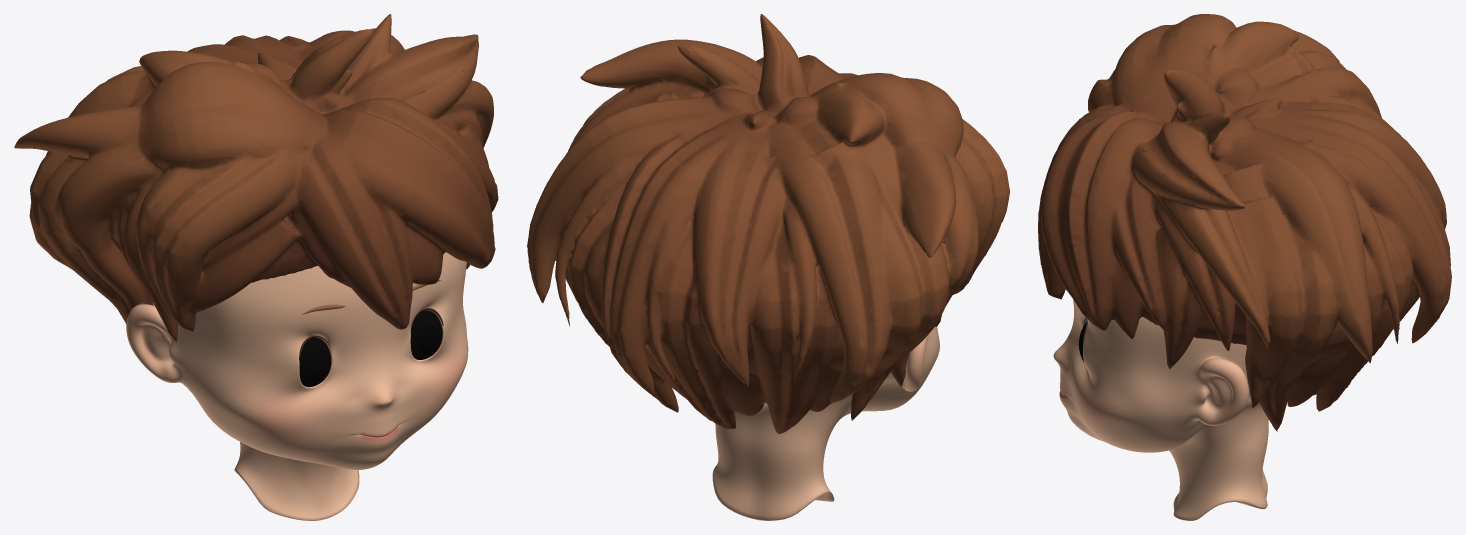
The model's file is head_candidate_v005.glb.
The picture shows the model from 3 angles, left to right: view 1: azimuth 30°, elevation 25°; view 2: azimuth 150°, elevation 25°; view 3: azimuth 270°, elevation 25°; orthographic projection. The views are drawn at different scales.
Parts seen in each view (by area): view 1: SCULPT_HAIR, SCULPT_HEAD, SCULPT_EYE_L, SCULPT_EYE_R; view 2: SCULPT_HAIR, SCULPT_HEAD; view 3: SCULPT_HAIR, SCULPT_HEAD.
Part boxes in pixels (x1,y1,x2,y2): SCULPT_HAIR: (14, 14, 498, 341); SCULPT_HEAD: (126, 252, 468, 520); SCULPT_EYE_L: (410, 310, 442, 359); SCULPT_EYE_R: (299, 337, 331, 387); SCULPT_HAIR: (527, 14, 1009, 433); SCULPT_HEAD: (712, 326, 939, 520); SCULPT_HAIR: (1038, 14, 1451, 431); SCULPT_HEAD: (1053, 299, 1268, 520).
Size of the model in its own units: 0.4823 by 0.5138 by 0.4188.
5 materials, 3 textured.
